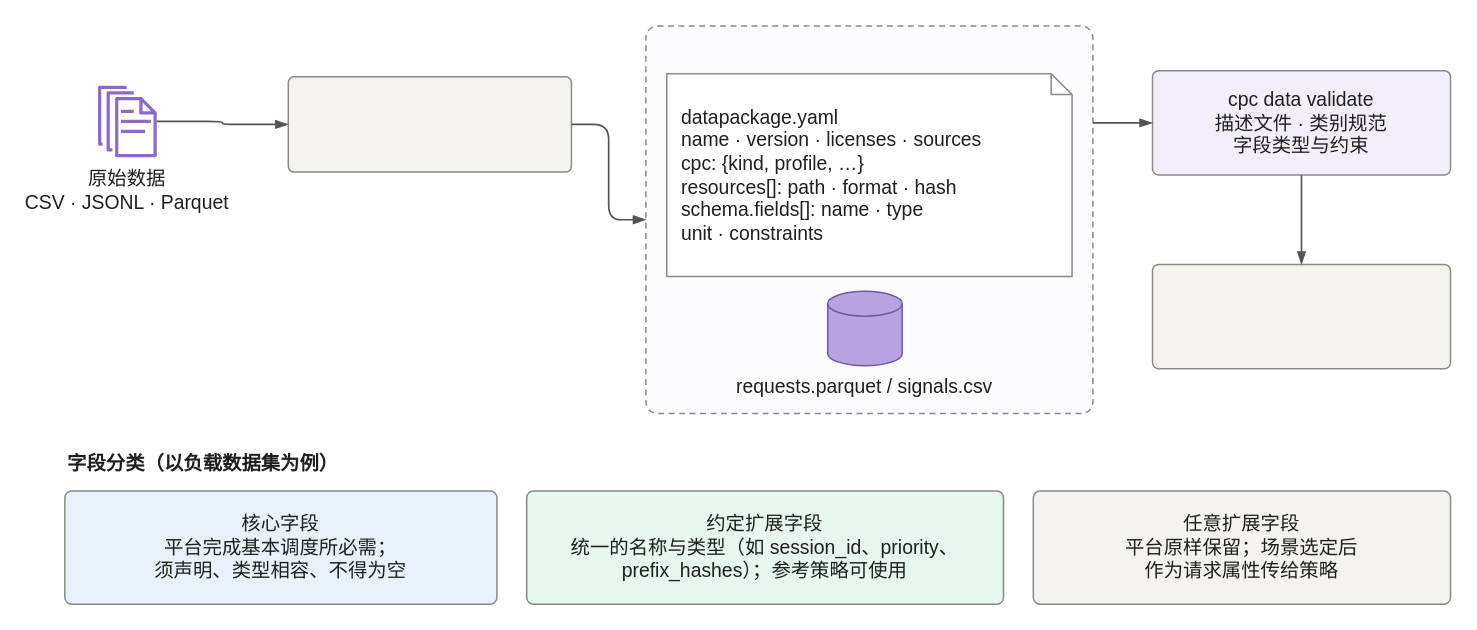
This 1477x630 diagram has some shape labels left out. Each missing label, with the box of its shape:
场景引用 dataset: ${CPC_DATA_DIR}/… workload.attributes: (1151, 263, 1451, 369)
数据集目录: (644, 25, 1093, 413)
转换脚本（用户的清洗过程） 字段映射 · 单位换算 · 排序 显式的转换参数: (287, 75, 571, 172)
